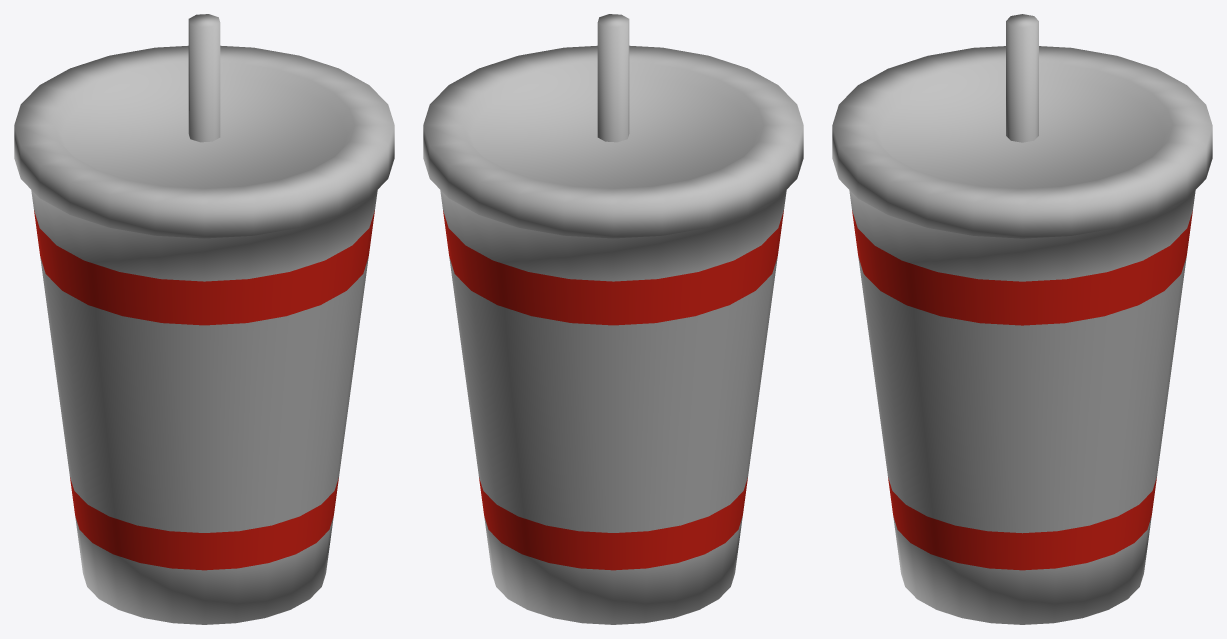
The model's file is soda.fbx.
3 renders of one model, left to right at view 1: azimuth 30°, elevation 25°; view 2: azimuth 150°, elevation 25°; view 3: azimuth 270°, elevation 25°, orthographic.
Parts seen in each view (by area): view 1: Soda; view 2: Soda; view 3: Soda.
Boxes of the visible parts, left/top/right/bottom form: Soda: left=14, top=14, right=394, bottom=624; Soda: left=423, top=14, right=803, bottom=624; Soda: left=832, top=14, right=1212, bottom=624.
Bounding box in the file's own units: 28.77 × 28.77 × 46.14.
